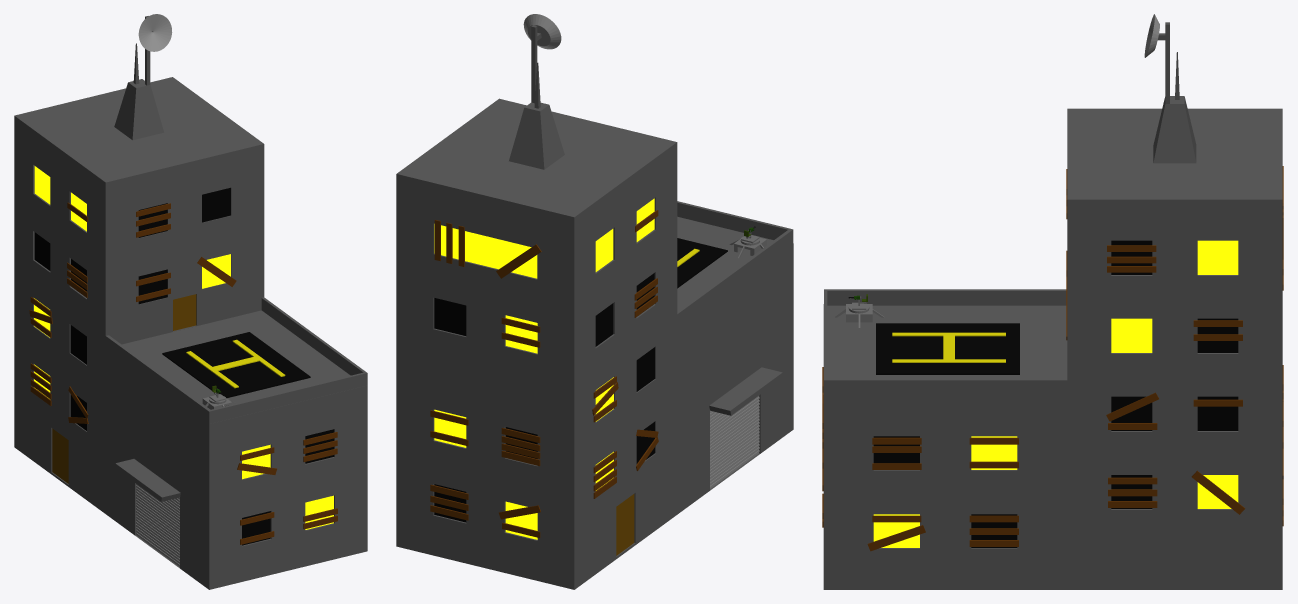
File: End.fbx
3 views of the same model, side by side, from view 1: azimuth 30°, elevation 25°; view 2: azimuth 150°, elevation 25°; view 3: azimuth 270°, elevation 25° (orthographic). The views are drawn at different scales.
Parts seen in each view (by area): view 1: Cube; view 2: Cube; view 3: Cube.
Part boxes in pixels (box(x1,y1,x2,y2)): Cube: box(14, 14, 367, 589); Cube: box(396, 14, 793, 589); Cube: box(822, 14, 1283, 589).
Size of the model in its own units: 225 by 545 by 429.
